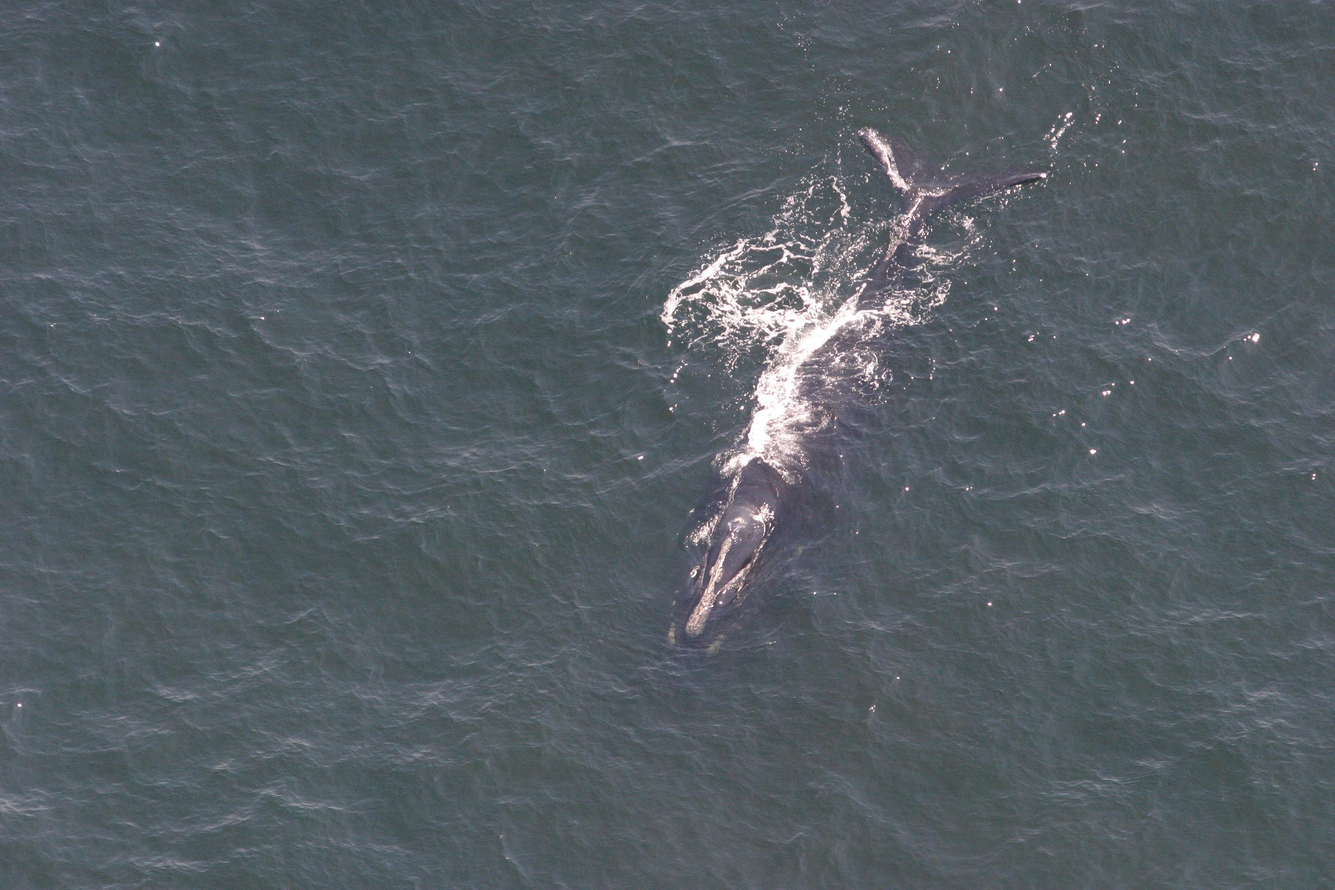whale: (653, 116, 1064, 661)
